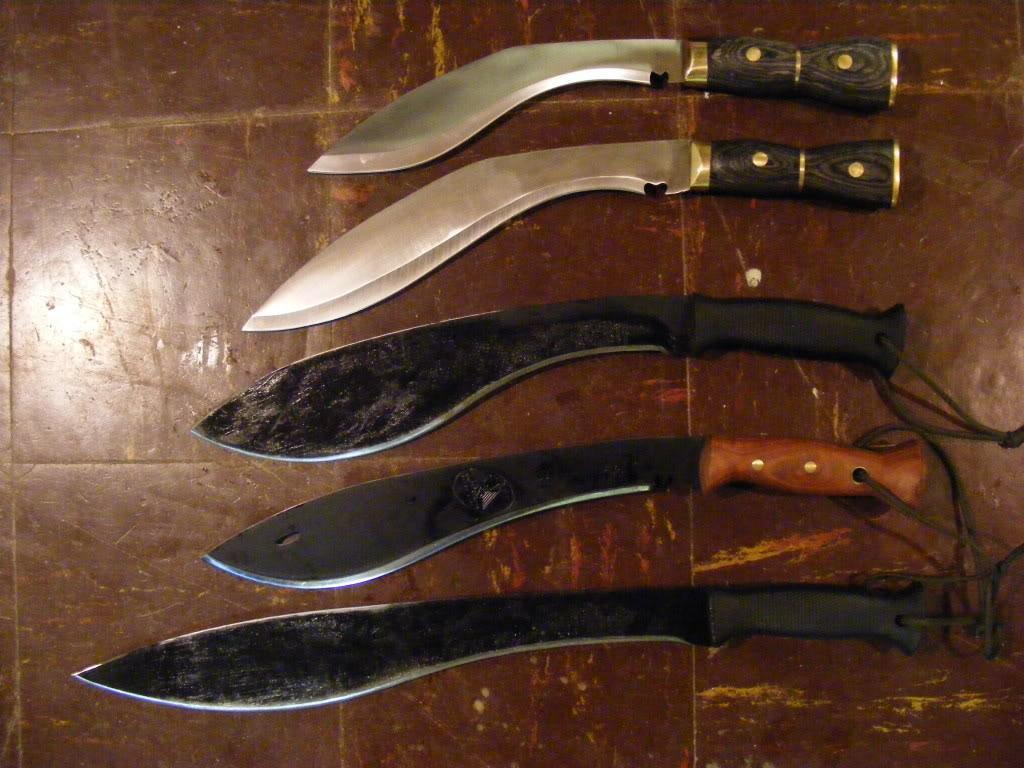facao: (216, 374, 936, 592), (198, 276, 932, 463), (232, 127, 908, 328), (60, 568, 940, 701), (301, 28, 910, 158)
